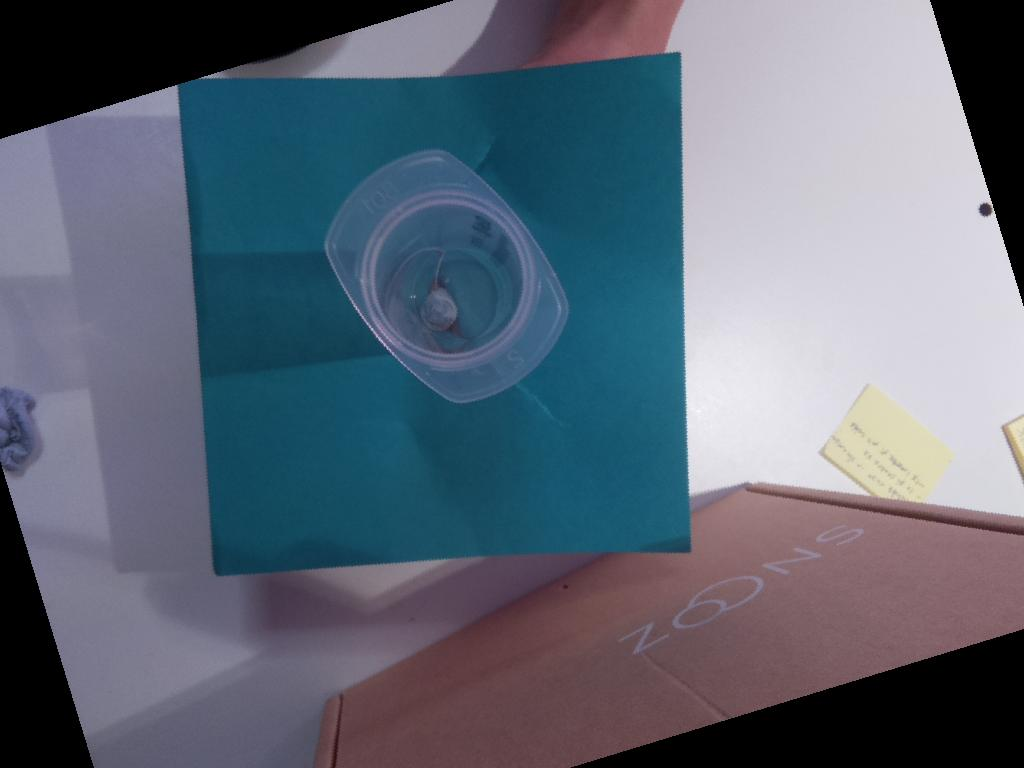clean: (323, 147, 571, 403)
